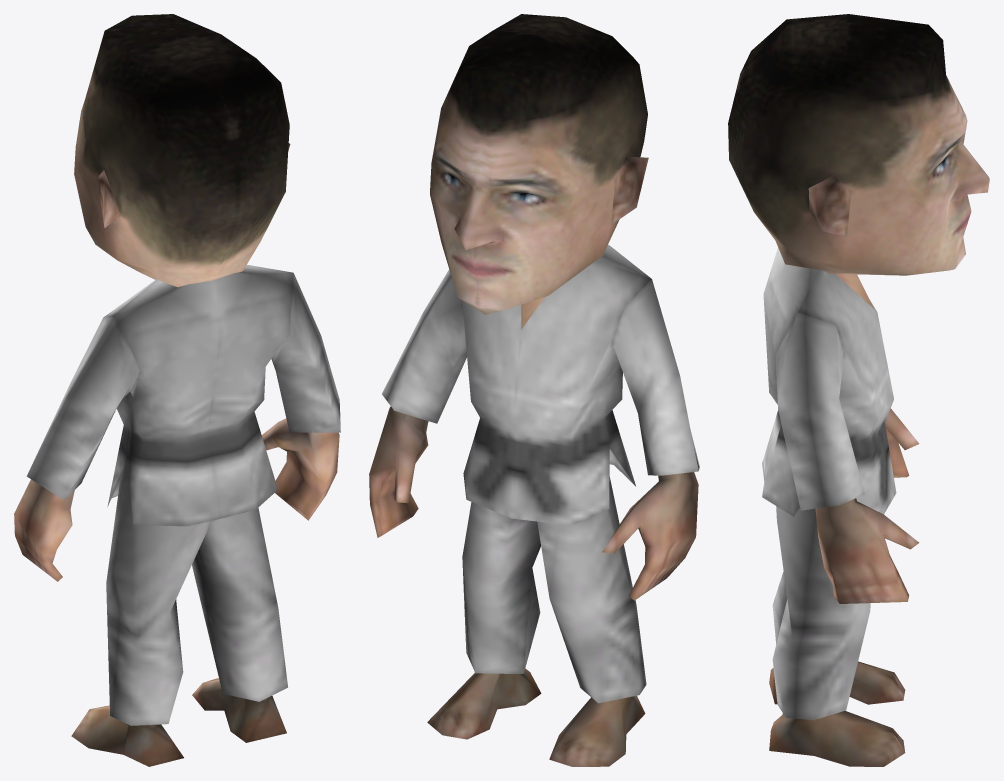
The model's file is JUDO.ICO.obj.
The picture shows the model from 3 angles, left to right: view 1: azimuth 30°, elevation 25°; view 2: azimuth 150°, elevation 25°; view 3: azimuth 270°, elevation 25°; orthographic projection.
Size of the model in its own units: 2.38 by 5 by 1.71.
Materials: 1 (1 with a texture image).
